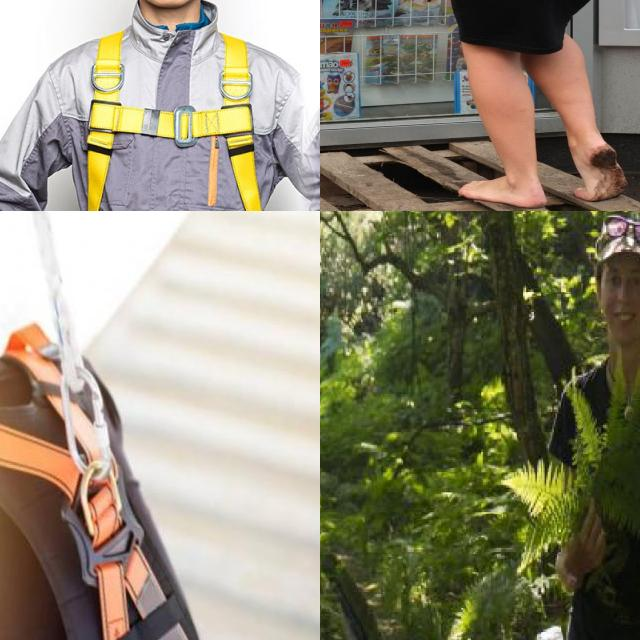Barefoots: (575, 141, 627, 202), (458, 176, 547, 208)
Harness: (0, 324, 189, 640), (70, 29, 273, 211)
face_nomask: (599, 267, 640, 329)
glasses: (546, 211, 640, 640), (595, 211, 640, 268)
hand_noglove: (559, 496, 612, 576)
